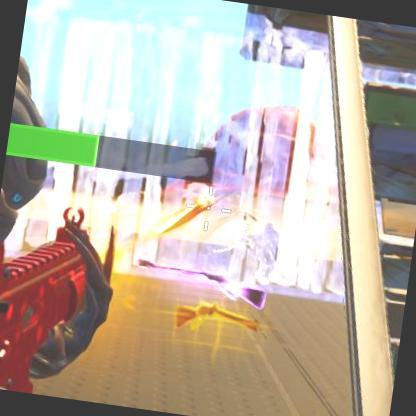person: (252, 216, 284, 280)
